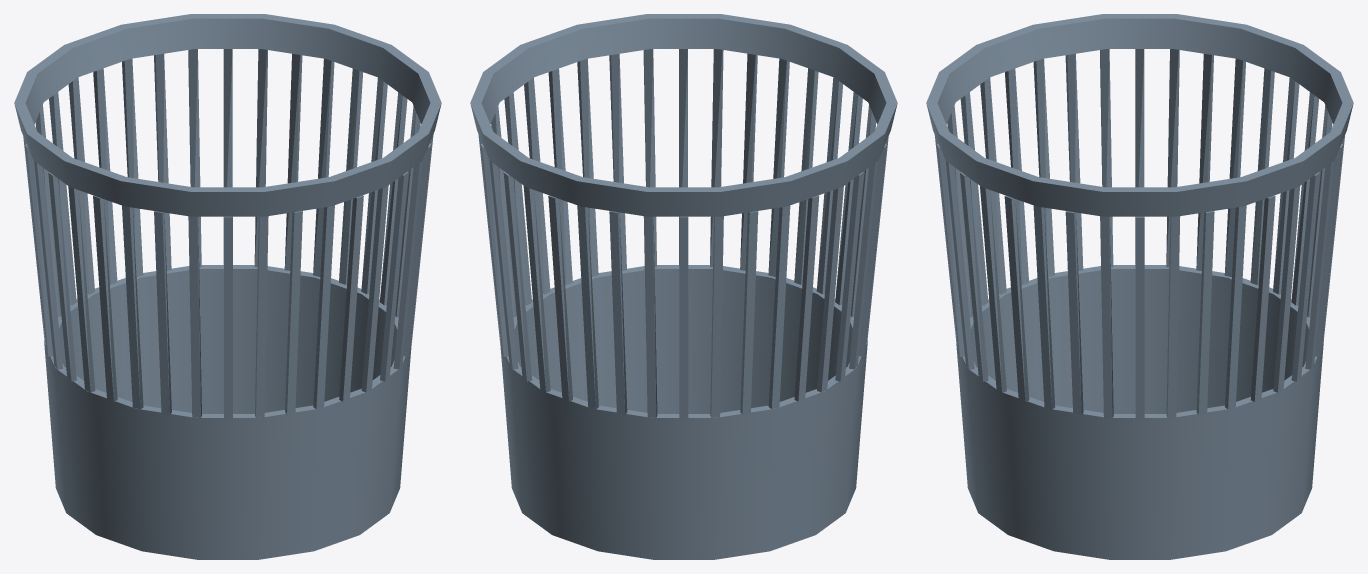
Rendered from trash.FBX.
The picture shows the model from 3 angles, left to right: view 1: azimuth 30°, elevation 25°; view 2: azimuth 150°, elevation 25°; view 3: azimuth 270°, elevation 25°; orthographic projection.
Visible parts, largest first — view 1: trash; view 2: trash; view 3: trash.
Part boxes in pixels (left/top/right/bottom): trash: left=14, top=14, right=441, bottom=559; trash: left=470, top=14, right=897, bottom=559; trash: left=926, top=14, right=1353, bottom=559.
Size of the model in its own units: 0.4068 by 0.4108 by 0.413.
